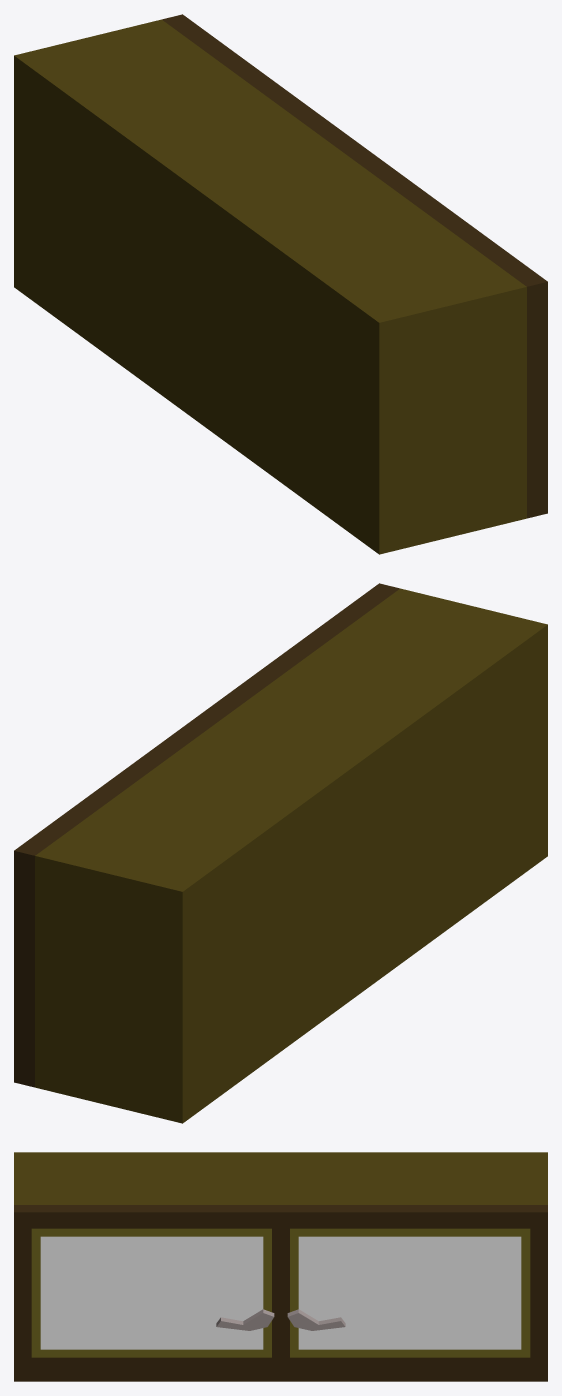
The model's file is obj_axe_cabinet_2_0.obj.
3 renders of one model, top to bottom at view 1: azimuth 30°, elevation 25°; view 2: azimuth 150°, elevation 25°; view 3: azimuth 270°, elevation 25°, orthographic. The views are drawn at different scales.
Size of the model in its own units: 0.5312 by 0.6562 by 1.88.
